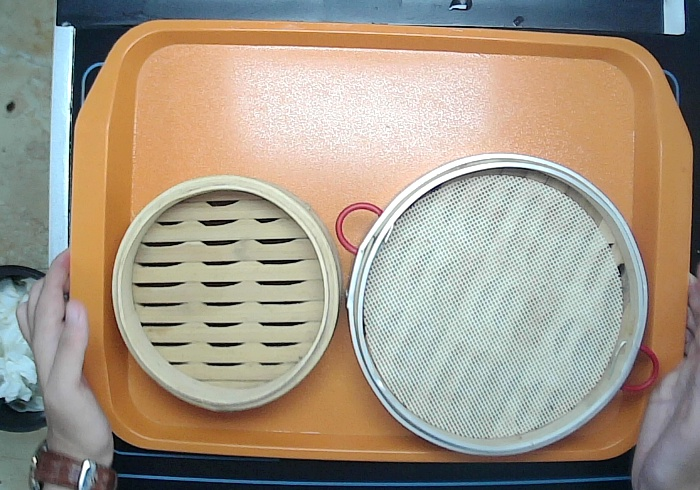ZNLD-Da_Zheng_Long: (332, 150, 664, 459)
ZNLD-Xiao_Zheng_Long: (107, 172, 347, 419)
